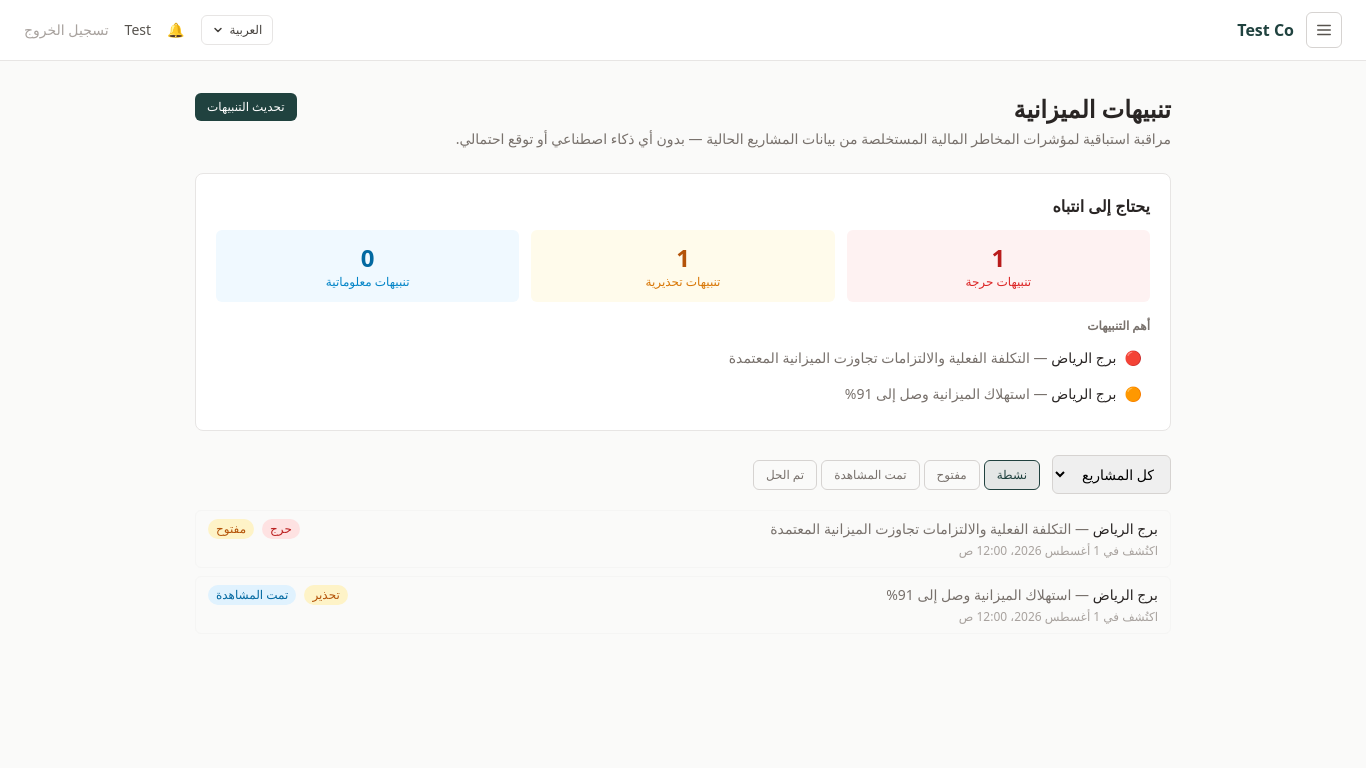
<BudgetAlerts/> › clicking an alert opens its detail view with explainability fields and money formatting
Expected: the text "— التكلفة الفعلية والالتزامات تجاوزت الميزانية المعتمدة" below "أهم التنبيهات" is shown, top-left (729, 348), bottom-right (1030, 367)
Click the text "— التكلفة الفعلية والالتزامات تجاوزت الميزانية المعتمدة" below "أهم التنبيهات" at [1041, 358], box top-left (729, 348), bottom-right (1051, 367)
(page scrolled)
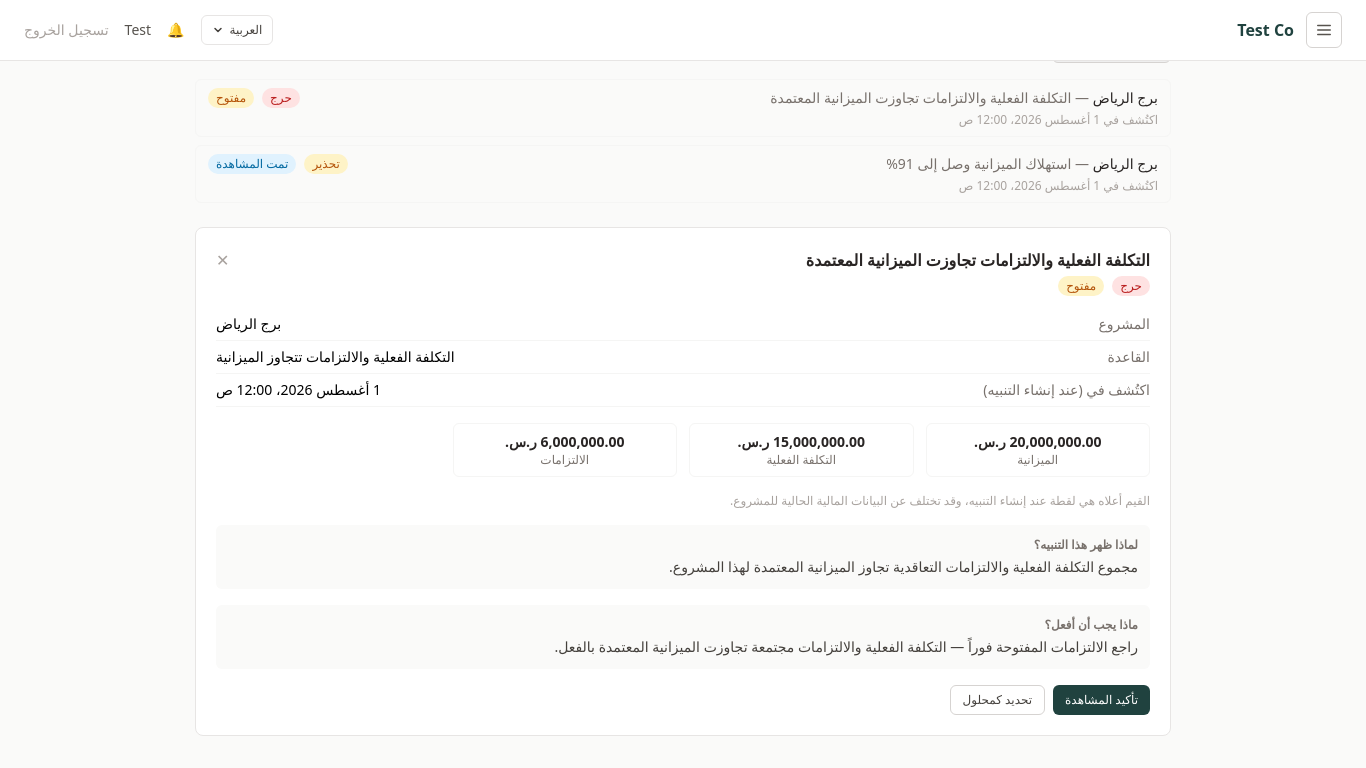
Expected: the text "لماذا ظهر هذا التنبيه؟" is shown, top-left (1034, 536), bottom-right (1138, 553)
Expected: the text "ماذا يجب أن أفعل؟" is shown, top-left (1044, 616), bottom-right (1138, 633)
Expected: the text "20,000,000.00 ر.س." is shown, top-left (974, 432), bottom-right (1102, 451)
